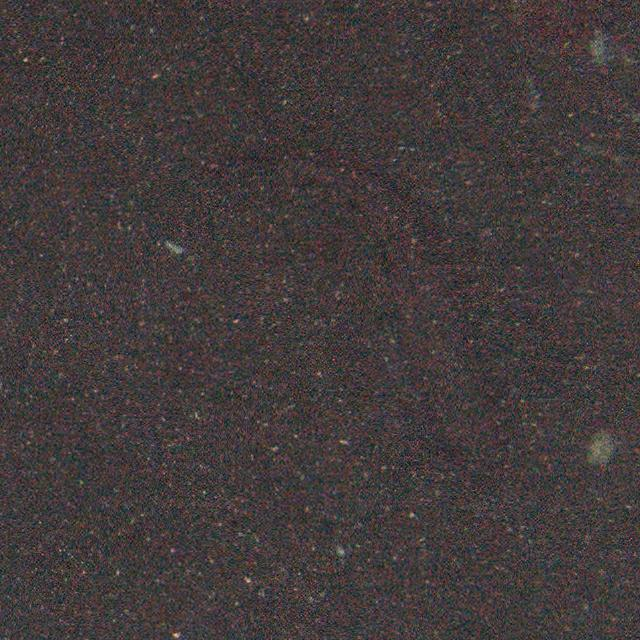roundfish: (276, 141, 522, 463)
